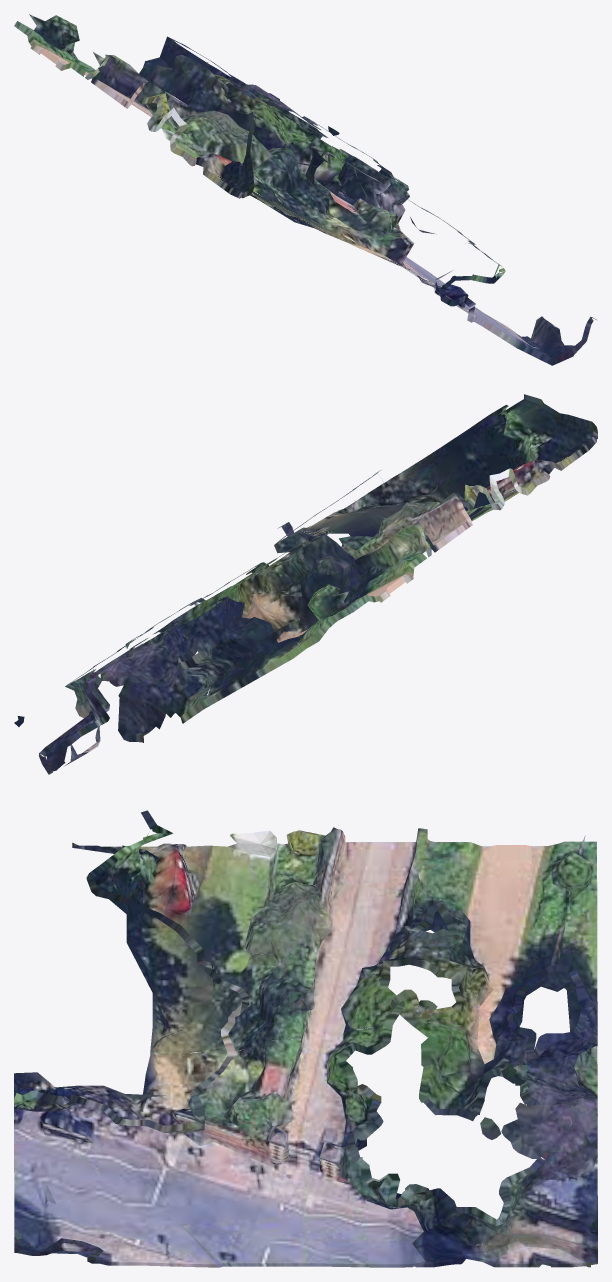
Rendered from AJVsH2zn7FU9ybXPGJUK3Qu9hgqn2Kt36UH88lq5M_I9ChjCXb4-wpNUc2hJwy5z_WBf3FlXcO-yRS1FdP3qM8tGAxlQaPn3GvUUuj76Gt6hFQER953GByh9dWppbEQBKwznycx11P8KlsKuQQfdcDdnvBiit74eV25KwGMaKaK3bvlIpCWhRTU3yPzdc7pahQ.glb.
3 views of the same model, one above another, from view 1: azimuth 30°, elevation 25°; view 2: azimuth 150°, elevation 25°; view 3: azimuth 270°, elevation 25° (orthographic). The views are drawn at different scales.
Bounding box in the file's own units: 35.01 × 28.58 × 46.99.
1 material, 1 textured.
